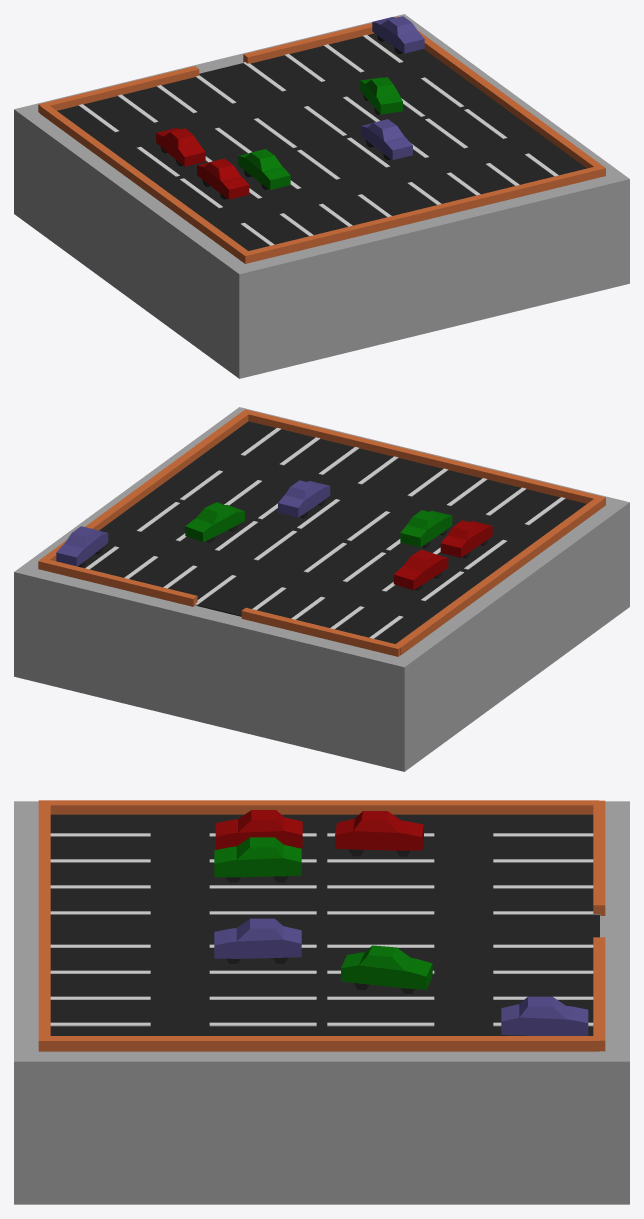
Rendered from CarPark.fbx.
3 renders of one model, top to bottom at view 1: azimuth 30°, elevation 25°; view 2: azimuth 150°, elevation 25°; view 3: azimuth 270°, elevation 25°, orthographic. The views are drawn at different scales.
Parts seen in each view (by area): view 1: pCube67 (×4), pCube118, pCube121, pCube119, pCube120, pCube69 (×4), Car (×6), pCube68 (×4); view 2: pCube67 (×4), pCube121, pCube119, pCube118, pCube120, pCube69 (×4), Car (×6), pCube68 (×4); view 3: pCube67 (×4), pCube119, pCube120, pCube121, pCube118, Car (×6), pCube68 (×4), pCube69 (×4).
Part boxes in pixels (x1,y1,x2,y2): pCube67 (×4): [14, 14, 629, 378]; pCube118: [220, 33, 494, 142]; pCube121: [322, 101, 586, 210]; pCube119: [57, 68, 321, 183]; pCube120: [156, 143, 413, 250]; pCube69 (×4): [38, 16, 605, 263]; Car (×6): [155, 16, 424, 199]; pCube68 (×4): [40, 30, 603, 261]; pCube67 (×4): [14, 407, 629, 771]; pCube121: [149, 421, 420, 535]; pCube119: [220, 536, 487, 643]; pCube118: [78, 494, 321, 611]; pCube120: [322, 463, 586, 576]; pCube69 (×4): [38, 409, 605, 656]; Car (×6): [56, 480, 492, 590]; pCube68 (×4): [40, 411, 601, 655]; pCube67 (×4): [14, 801, 629, 1204]; pCube119: [322, 814, 599, 929]; pCube120: [50, 814, 321, 929]; pCube121: [50, 930, 321, 1035]; pCube118: [322, 930, 599, 1035]; Car (×6): [214, 810, 588, 1035]; pCube68 (×4): [44, 800, 599, 1051]; pCube69 (×4): [38, 800, 605, 1051].
Size of the model in its own units: 2 by 0.6407 by 2.
